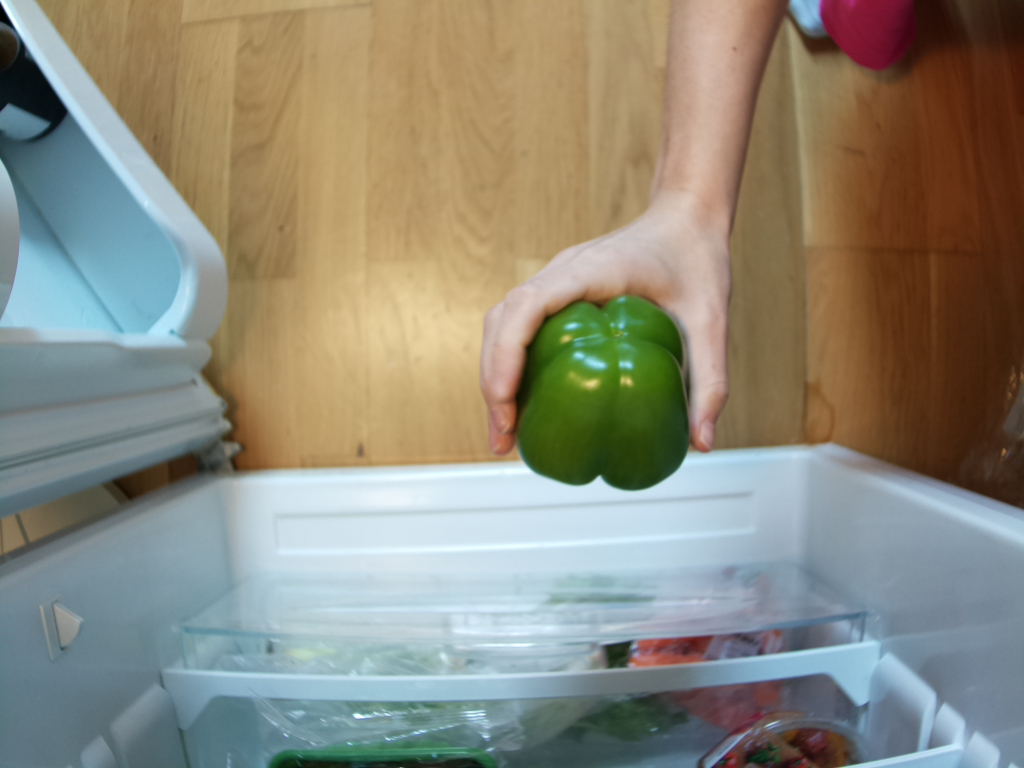pepper: (513, 292, 698, 489)
